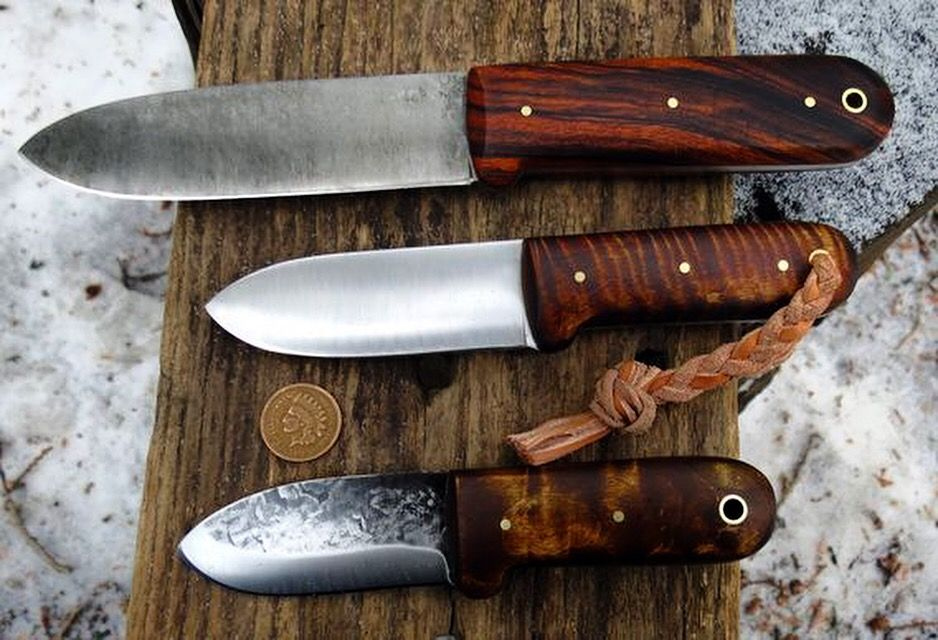knife: (13, 45, 902, 213), (195, 212, 859, 368), (168, 449, 789, 611)
